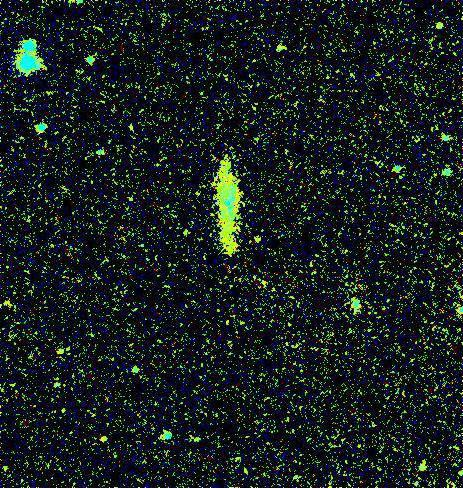star: (172, 218, 202, 248)
